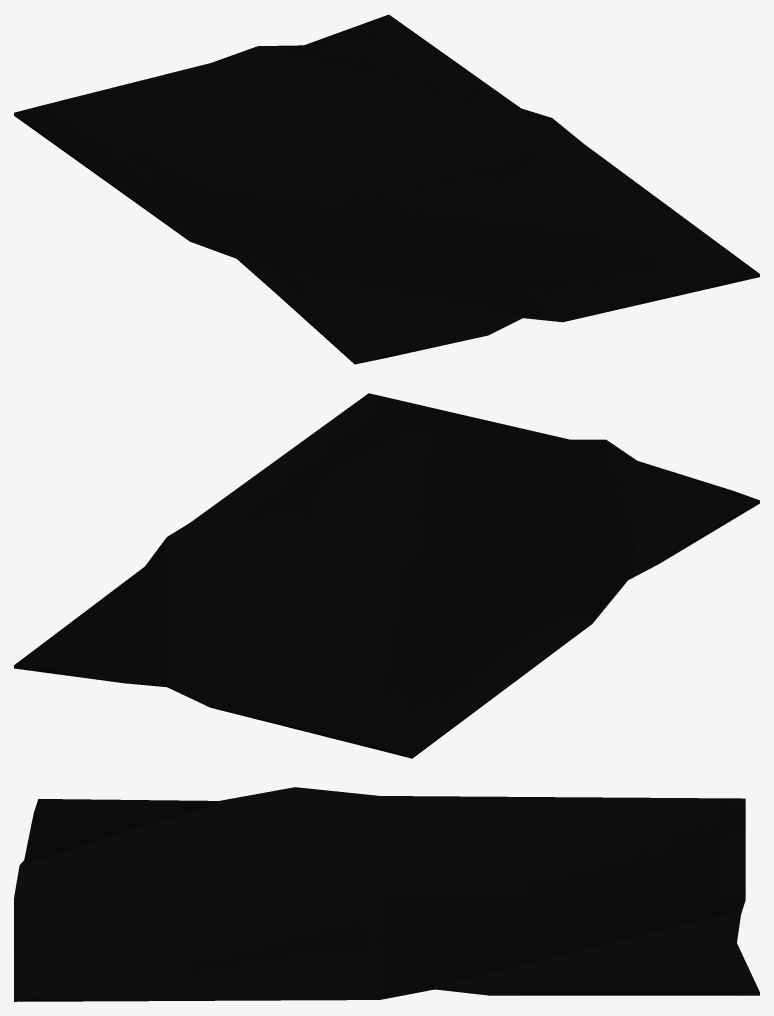
Rendered from cyber_SM_Prop_Rug_02.gltf.
The picture shows the model from 3 angles, top to bottom: view 1: azimuth 30°, elevation 25°; view 2: azimuth 150°, elevation 25°; view 3: azimuth 270°, elevation 25°; orthographic projection. The views are drawn at different scales.
Parts seen in each view (by area): view 1: SM_Prop_Rug_02; view 2: SM_Prop_Rug_02; view 3: SM_Prop_Rug_02.
Part boxes in pixels (box(x1,y1,x2,y2)): SM_Prop_Rug_02: box(14, 14, 759, 364); SM_Prop_Rug_02: box(14, 393, 759, 758); SM_Prop_Rug_02: box(14, 787, 759, 1001).
Bounding box in the file's own units: 1.55 × 0.0649 × 2.45.
Materials: 1 (1 with a texture image).
